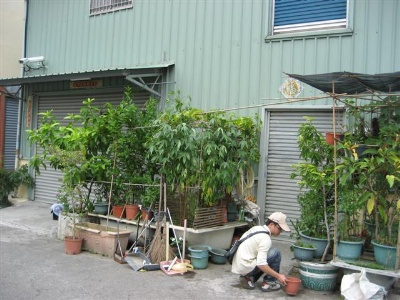bowl: (284, 276, 301, 297), (209, 247, 229, 264), (189, 253, 209, 269), (188, 244, 210, 255)
box: (68, 221, 131, 257)
plastic_bag: (340, 273, 384, 300)
